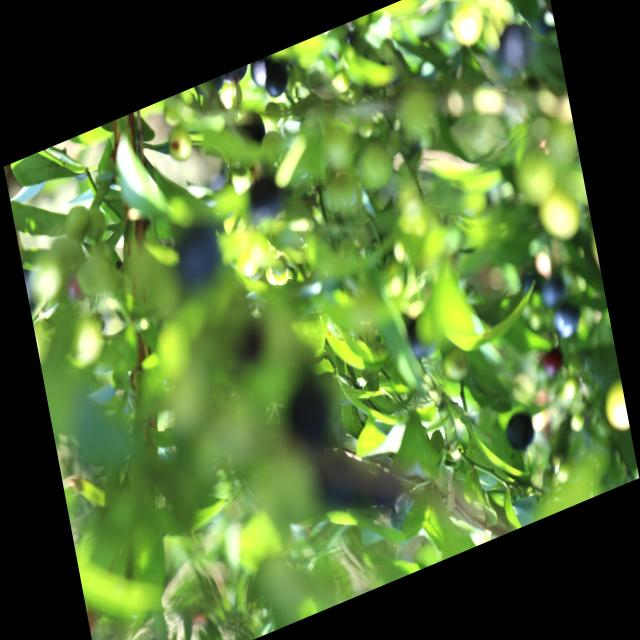blueberry: (492, 15, 533, 80), (549, 293, 589, 350), (260, 52, 296, 106), (505, 406, 542, 458), (535, 266, 567, 312), (246, 55, 276, 94)
blueberry-unripe: (601, 381, 630, 436)
